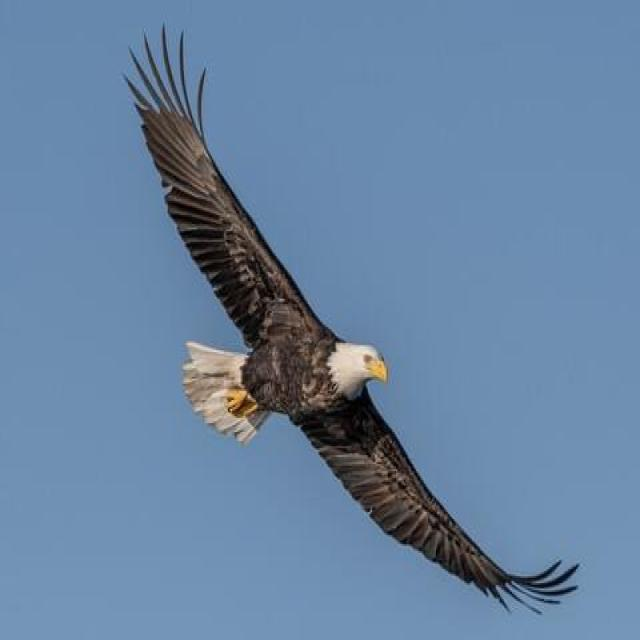Eagle: (126, 22, 554, 615)
